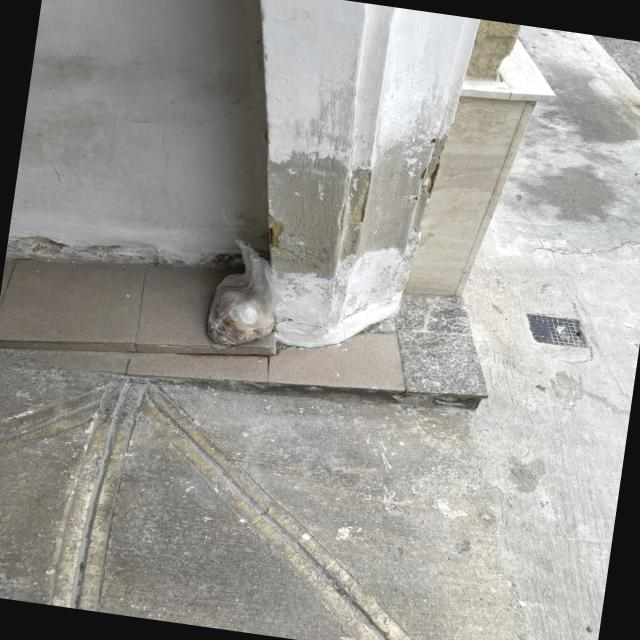white_bag: (203, 245, 290, 362)
